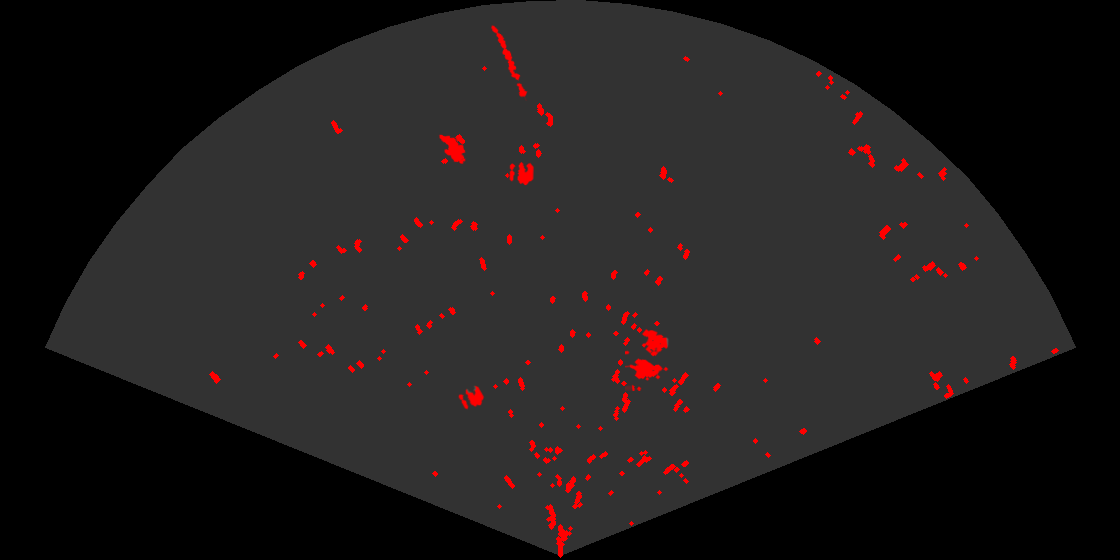AUV: (437, 133, 467, 166)
ball: (457, 384, 486, 411), (508, 160, 535, 187)
cage: (625, 327, 670, 391)
chain: (490, 23, 529, 101)
